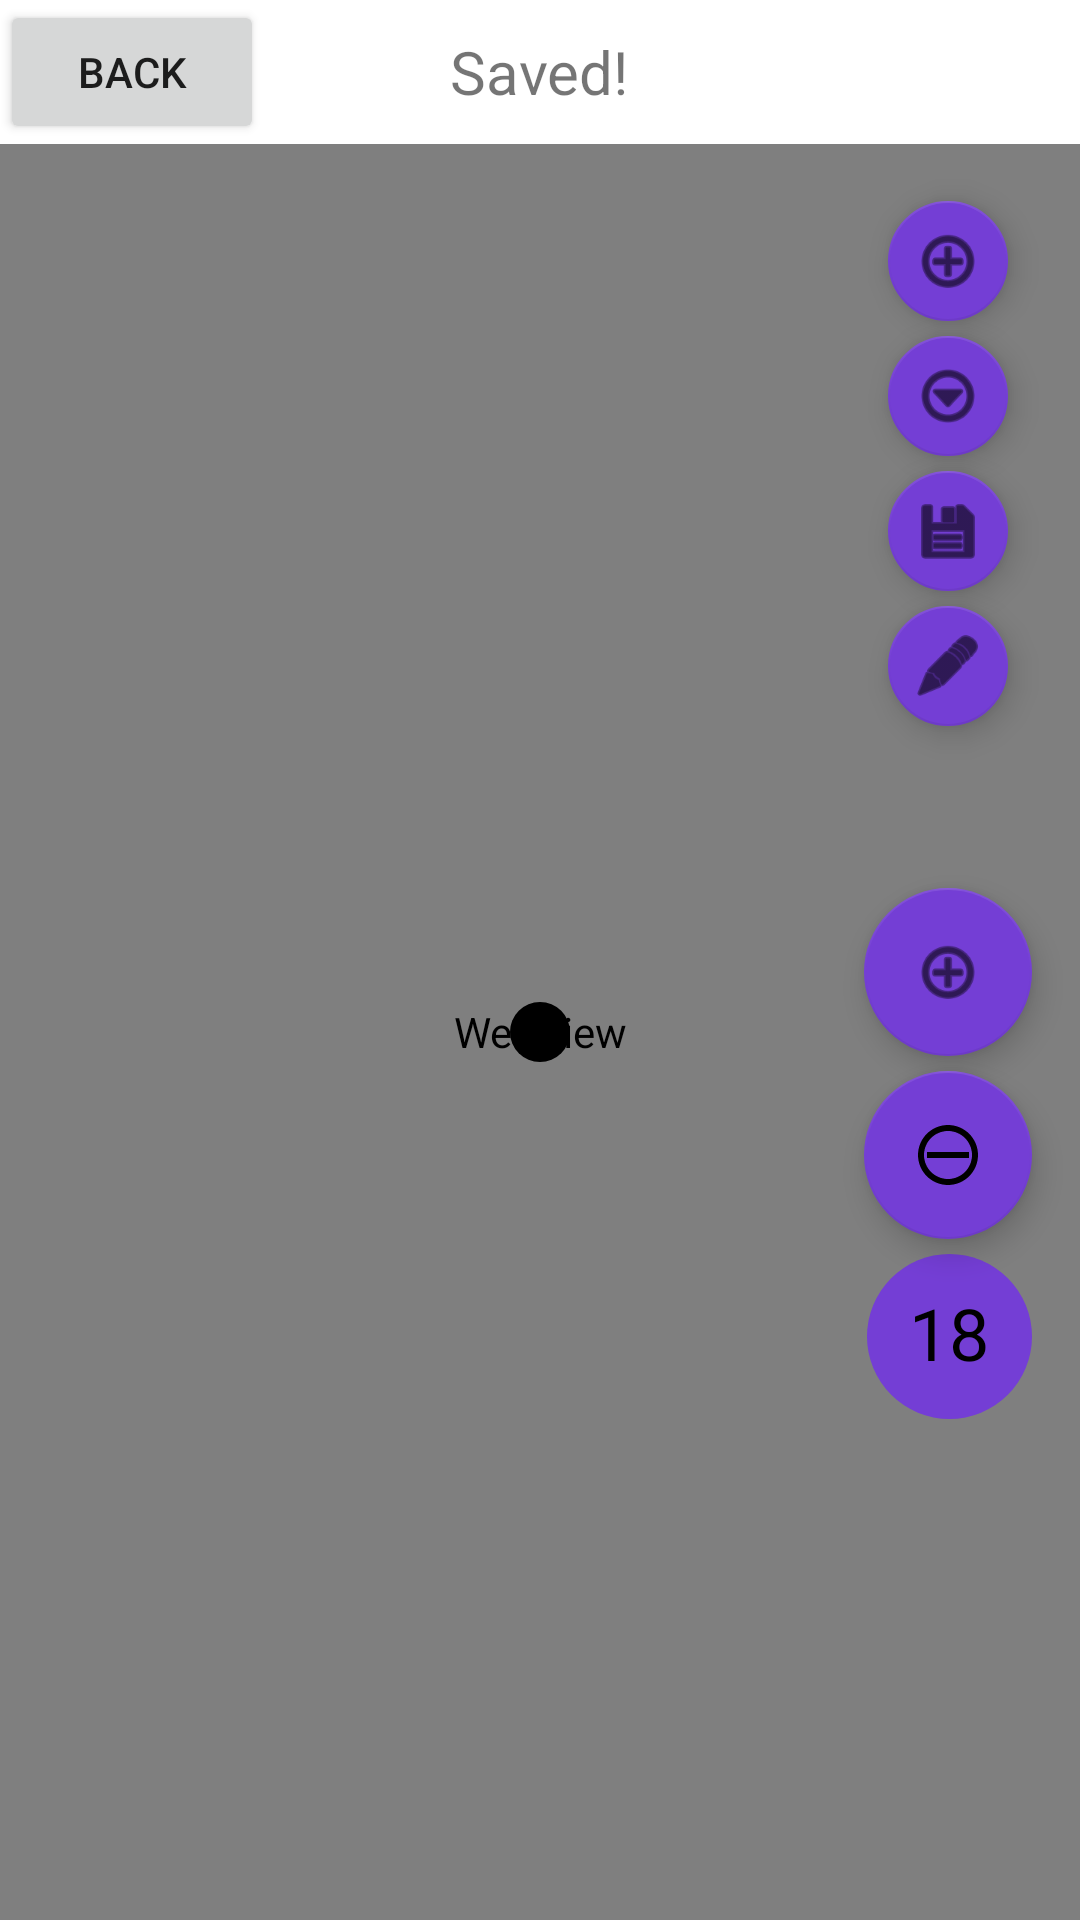

Icon bounding boxes for this 1080 x 1920 phone screenshot, format rect(x1, y1, x2, y2):
add: rect(888, 201, 1008, 321)
Add to Counter: rect(864, 888, 1032, 1056)
circled minus sign: rect(864, 1071, 1032, 1239)
edit: rect(888, 606, 1008, 726)
more: rect(888, 336, 1008, 456)
save: rect(888, 471, 1008, 591)
